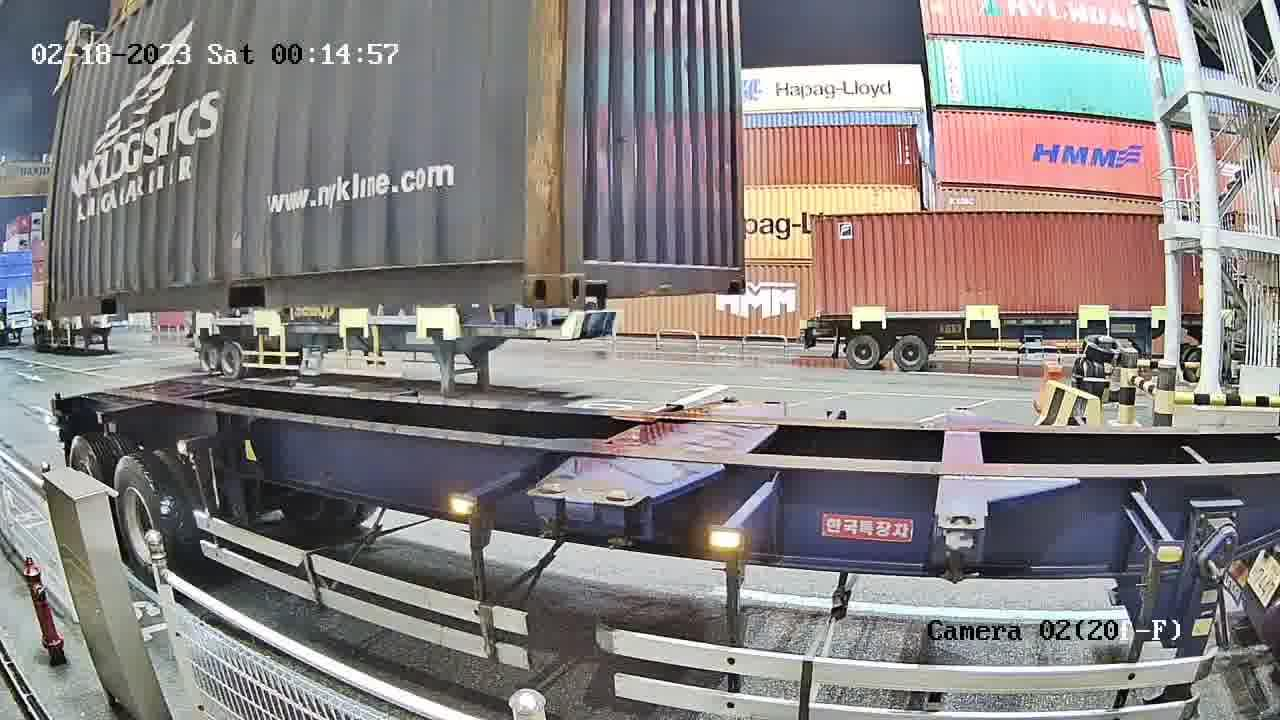Chassis: (529, 397, 744, 501), (598, 398, 788, 506)
Cone: (601, 488, 639, 549), (532, 481, 566, 540)
Hole_L: (562, 240, 616, 306)
Hole_R: (493, 240, 560, 309), (717, 253, 745, 295)
Tire: (112, 457, 180, 584)
